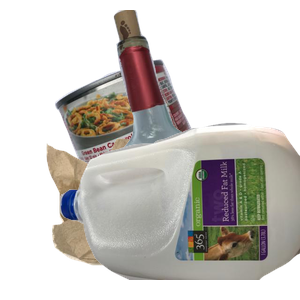glass: (89, 10, 300, 190)
metal: (52, 57, 260, 237)
plastic: (60, 120, 300, 300)
trash: (44, 136, 277, 300)
